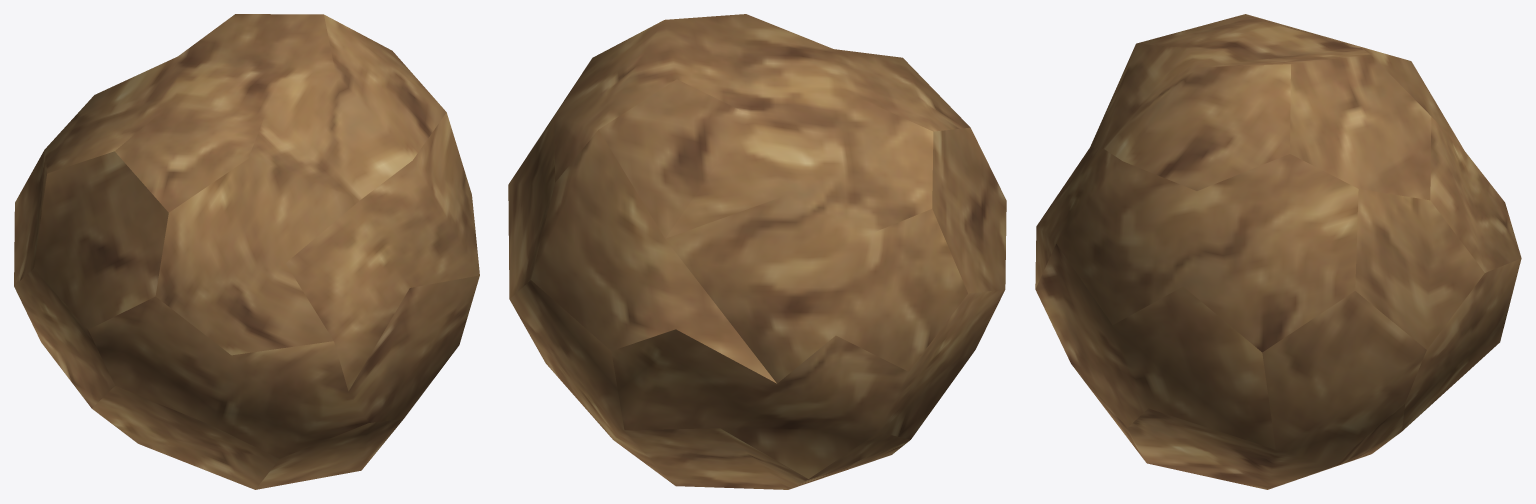
The model's file is Rock_m01.fbx.
3 views of the same model, side by side, from view 1: azimuth 30°, elevation 25°; view 2: azimuth 150°, elevation 25°; view 3: azimuth 270°, elevation 25° (orthographic). The views are drawn at different scales.
Visible parts, largest first — view 1: Rock_m01; view 2: Rock_m01; view 3: Rock_m01.
Boxes of the visible parts, x1,y1,x2,y2 form: Rock_m01: (14, 14, 479, 489); Rock_m01: (508, 14, 1006, 489); Rock_m01: (1035, 14, 1521, 489).
Size of the model in its own units: 1.97 by 1.82 by 1.93.
